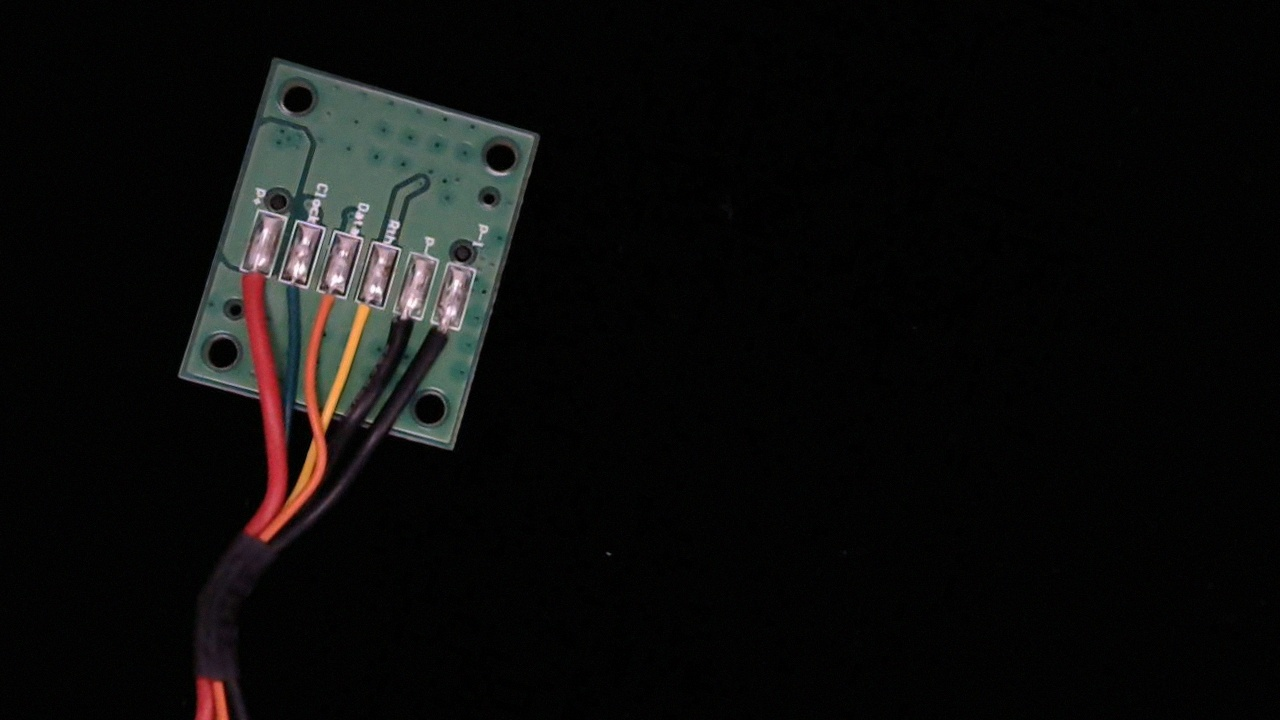Black: (378, 294, 427, 366)
Black1: (416, 305, 465, 379)
Green: (265, 262, 313, 334)
Orange: (304, 275, 351, 340)
Red: (226, 250, 273, 322)
Yellow: (338, 283, 388, 359)
